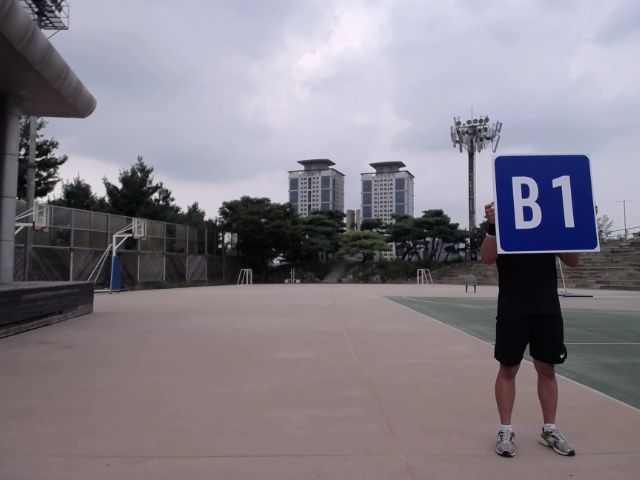delivery_b1: (492, 153, 600, 254)
